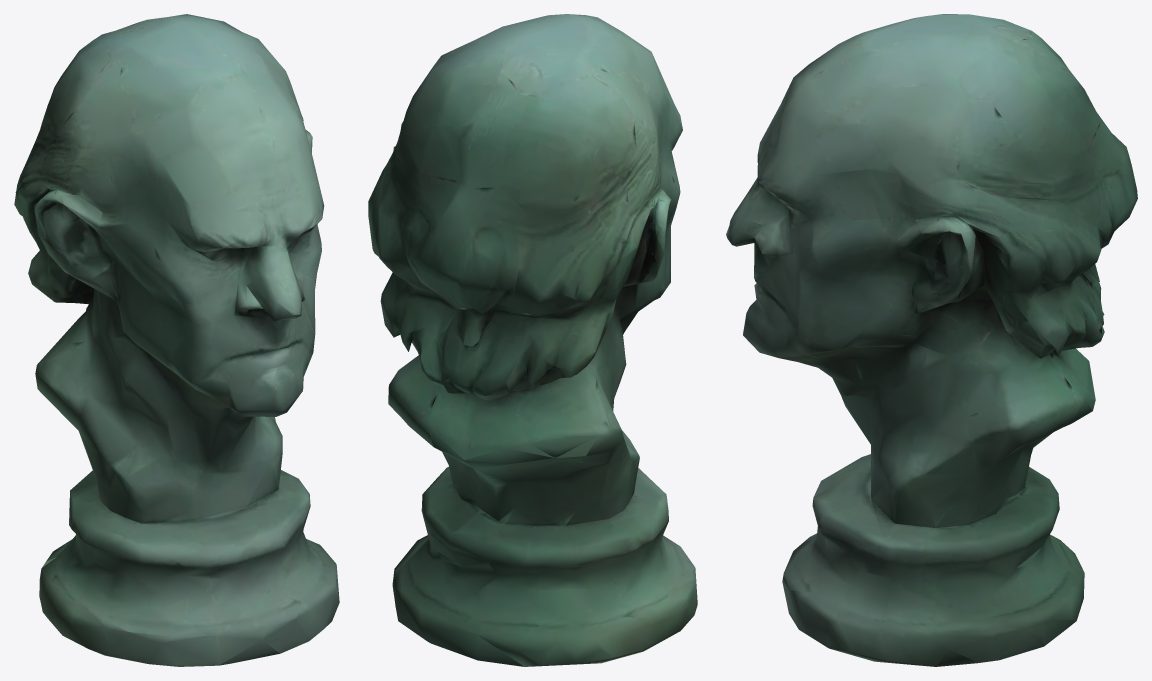
3 views of the same model, side by side, from view 1: azimuth 30°, elevation 25°; view 2: azimuth 150°, elevation 25°; view 3: azimuth 270°, elevation 25° (orthographic).
Parts seen in each view (by area): view 1: Head statue; view 2: Head statue; view 3: Head statue.
Boxes of the visible parts, x1=… form: Head statue: x1=14, y1=14, x2=339, y2=666; Head statue: x1=368, y1=14, x2=697, y2=666; Head statue: x1=726, y1=14, x2=1137, y2=666.
Size of the model in its own units: 0.9948 by 1.99 by 1.29.
1 material, 1 textured.
